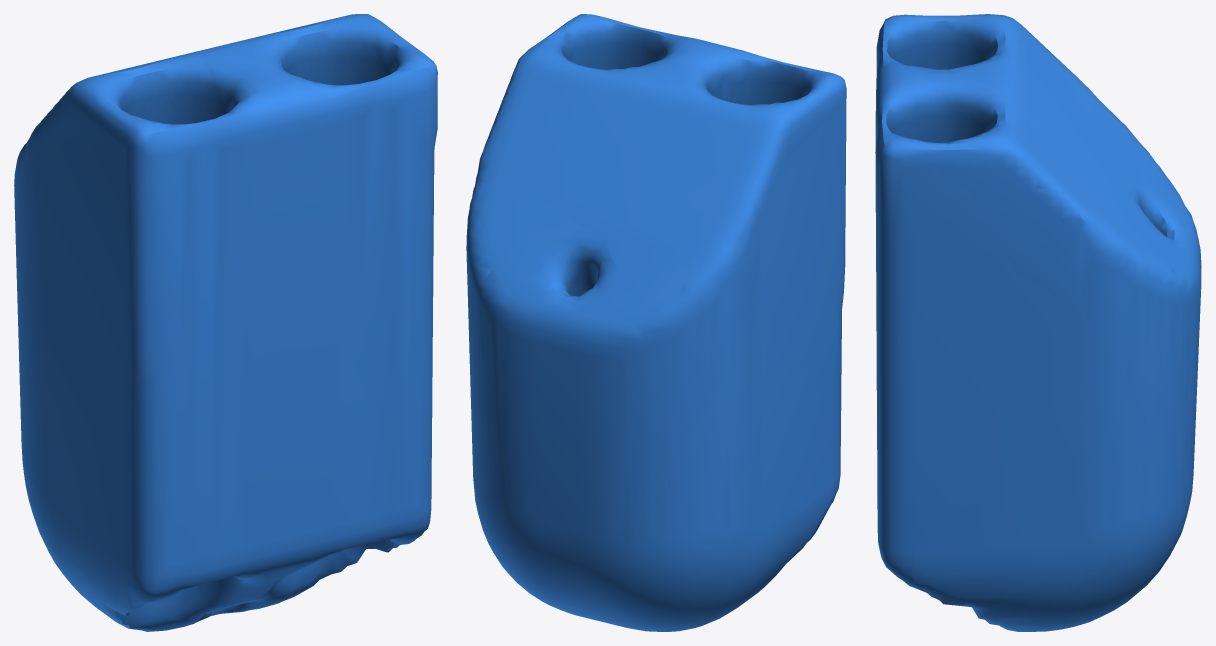
The model's file is left_finger1_upper.glb.
3 views of the same model, side by side, from view 1: azimuth 30°, elevation 25°; view 2: azimuth 150°, elevation 25°; view 3: azimuth 270°, elevation 25° (orthographic). The views are drawn at different scales.
Visible parts, largest first — view 1: left_finger1_upper; view 2: left_finger1_upper; view 3: left_finger1_upper.
Part boxes in pixels (x1,y1,x2,y2): left_finger1_upper: (14,14,437,631); left_finger1_upper: (466,14,846,631); left_finger1_upper: (875,14,1201,631).
Bounding box in the file's own units: 0.00989 × 0.0181 × 0.0101.
Materials: 1 (1 with a texture image).
